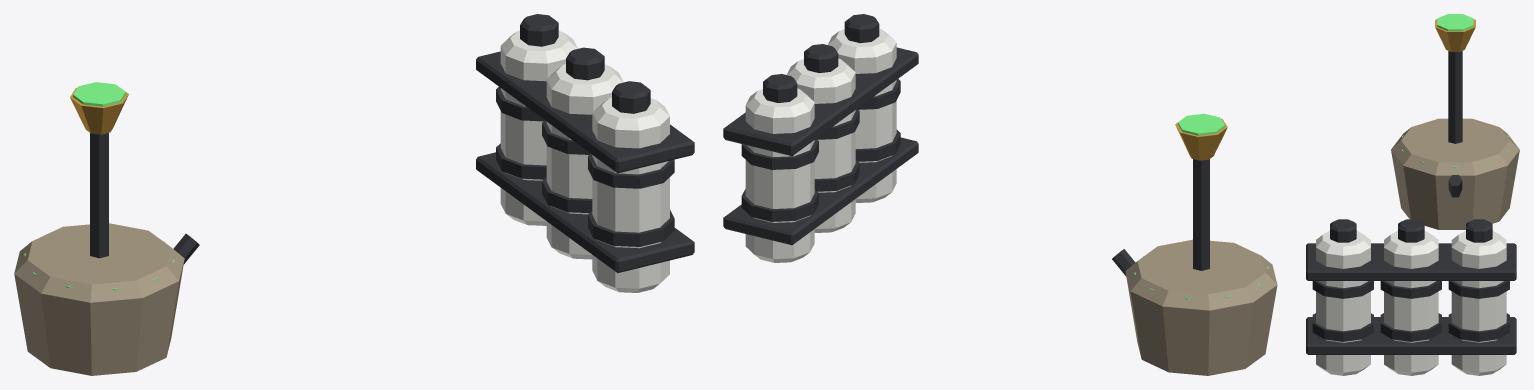
File: MenderDressB2.obj
3 views of the same model, side by side, from view 1: azimuth 30°, elevation 25°; view 2: azimuth 150°, elevation 25°; view 3: azimuth 270°, elevation 25° (orthographic). The views are drawn at different scales.
Parts seen in each view (by area): view 1: MenderDressB2; view 2: MenderDressB2; view 3: MenderDressB2.
Part boxes in pixels (x1,y1,x2,y2): MenderDressB2: (14, 14, 694, 375); MenderDressB2: (723, 14, 1277, 375); MenderDressB2: (1306, 14, 1519, 375).
Size of the model in its own units: 1.43 by 0.606 by 0.63.
